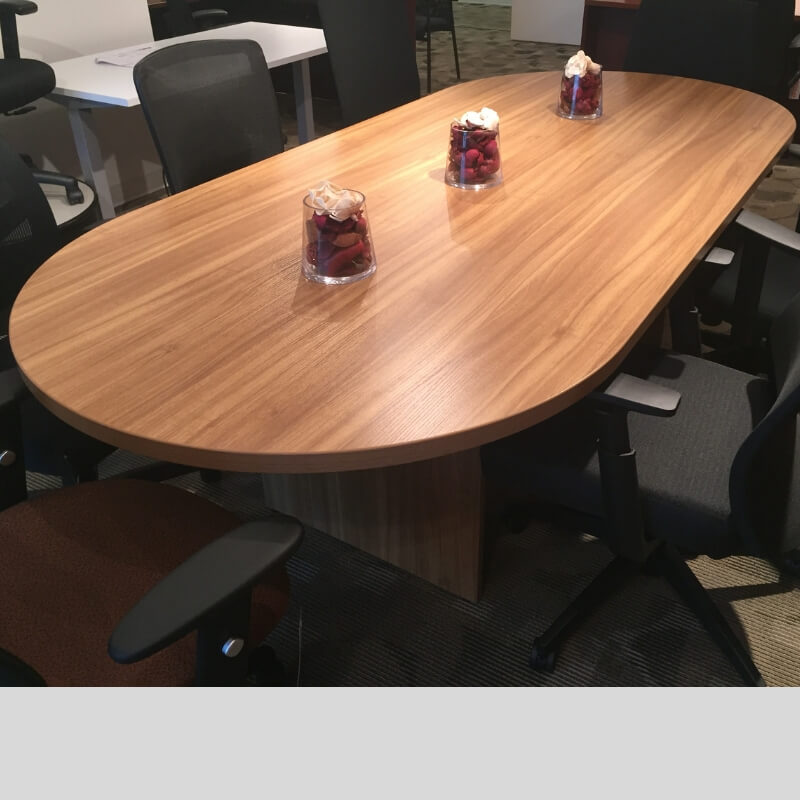conference_table: (9, 69, 796, 603)
